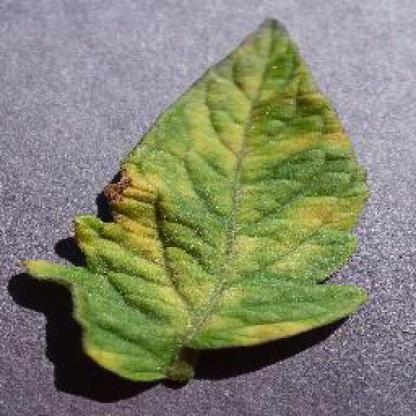Tomato_Leaf_Mold: (29, 18, 365, 382)
